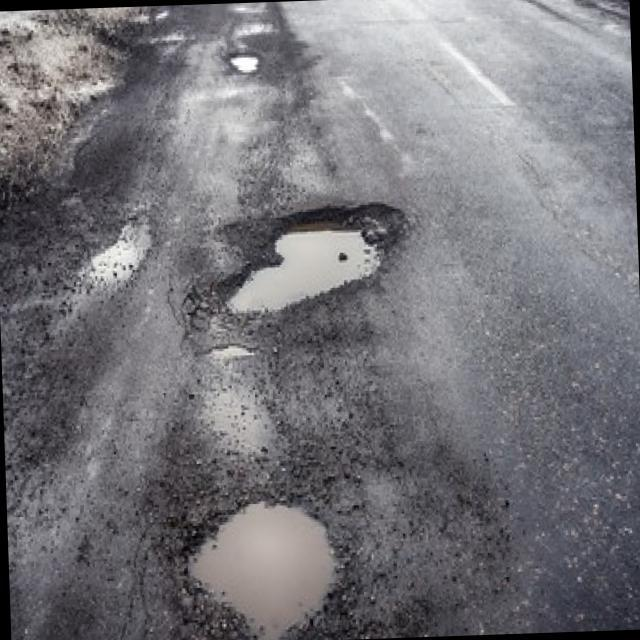Pothole: (175, 492, 345, 640), (216, 202, 409, 318), (226, 52, 262, 78)
